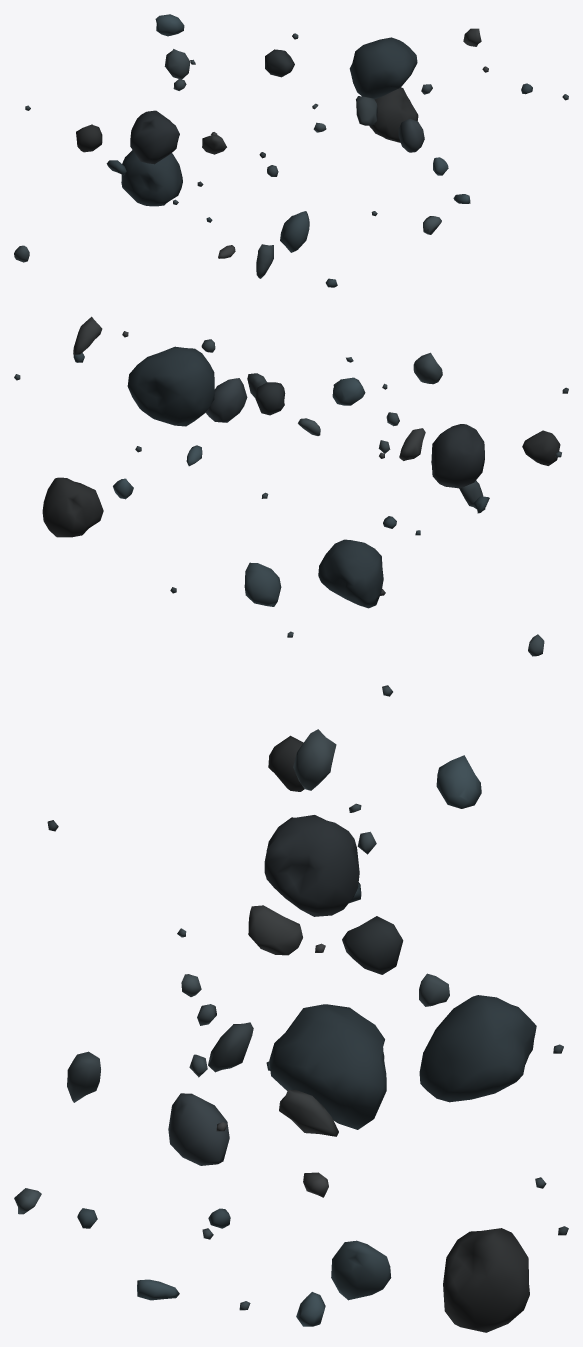
File: Asteroids_001.fbx
The picture shows the model from 3 angles, top to bottom: view 1: azimuth 30°, elevation 25°; view 2: azimuth 150°, elevation 25°; view 3: azimuth 270°, elevation 25°; orthographic projection. The views are drawn at different scales.
Parts seen in each view (by area): view 1: Asteroids_001; view 2: Asteroids_001; view 3: Asteroids_001.
Part boxes in pixels (x1,y1,x2,y2): Asteroids_001: (14, 14, 568, 287); Asteroids_001: (14, 316, 568, 656); Asteroids_001: (14, 685, 568, 1332).
Size of the model in its own units: 15795 by 8004 by 7205.
